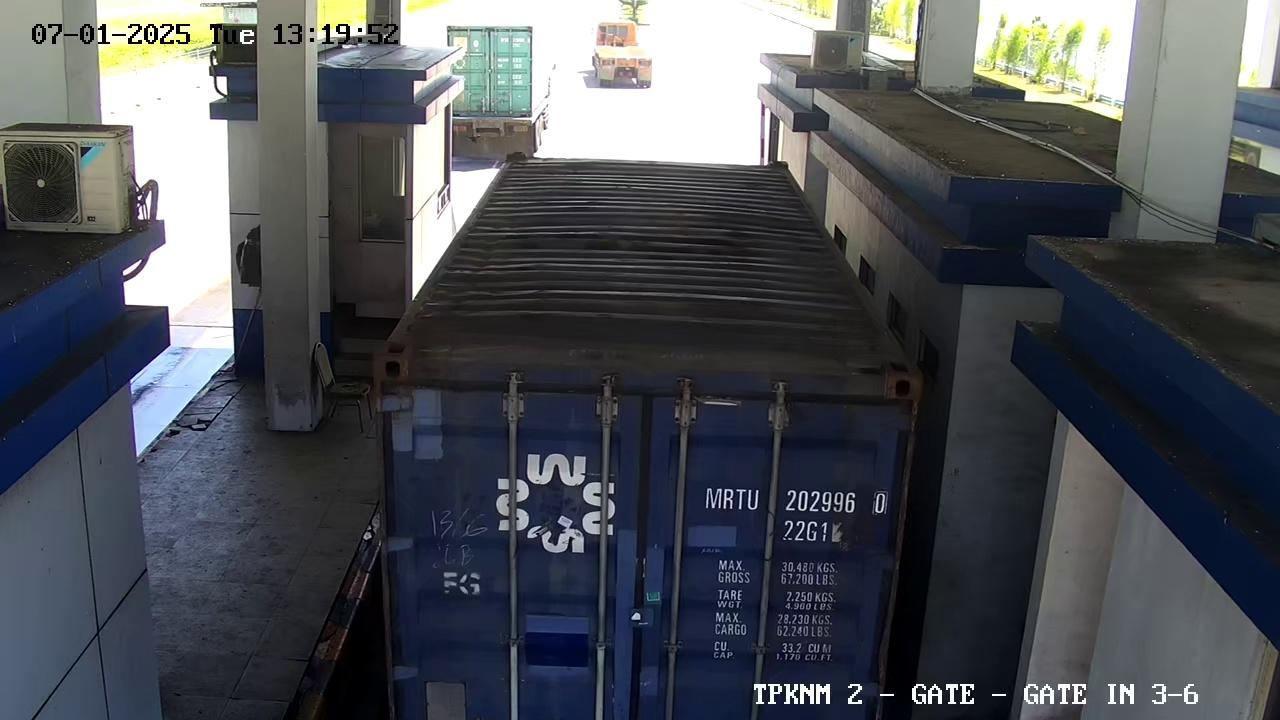Container_ID: (697, 470, 887, 549)
